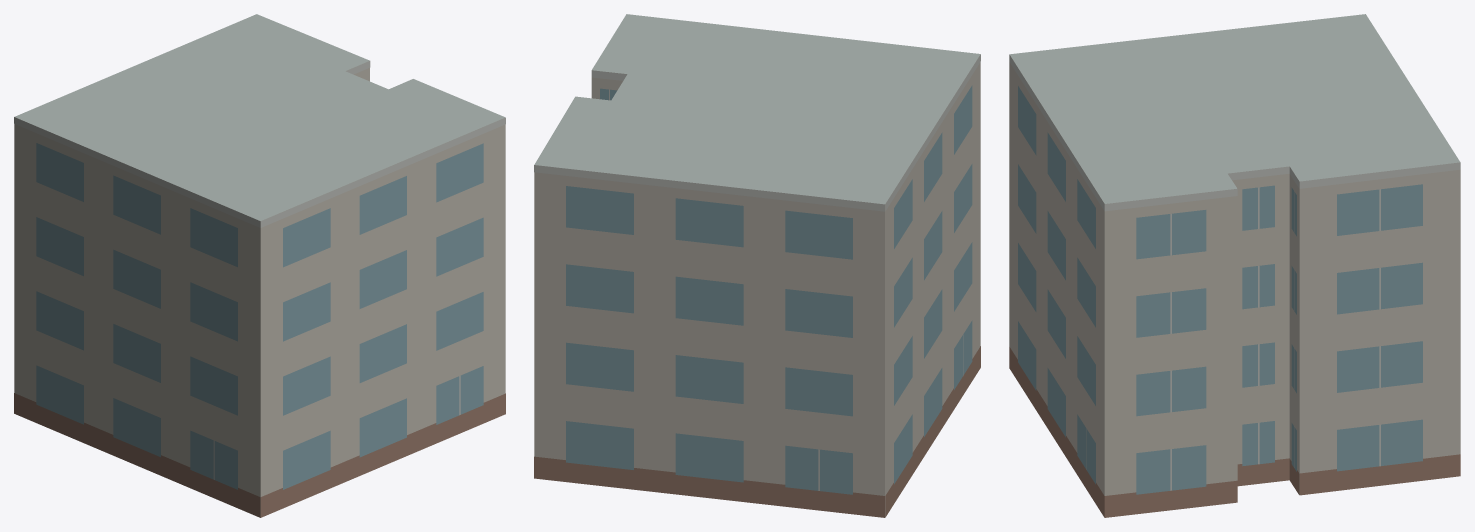
Rendered from survey-upis-32651558.glb.
3 views of the same model, side by side, from view 1: azimuth 30°, elevation 25°; view 2: azimuth 150°, elevation 25°; view 3: azimuth 270°, elevation 25° (orthographic). The views are drawn at different scales.
Visible parts, largest first — view 1: survey-upis-32651558.tmp; view 2: survey-upis-32651558.tmp; view 3: survey-upis-32651558.tmp.
Boxes of the visible parts, <box> form: survey-upis-32651558.tmp: <box>14,14,505,517</box>; survey-upis-32651558.tmp: <box>534,14,980,517</box>; survey-upis-32651558.tmp: <box>1009,14,1460,517</box>.
Size of the model in its own units: 13.65 by 10.5 by 13.69.
